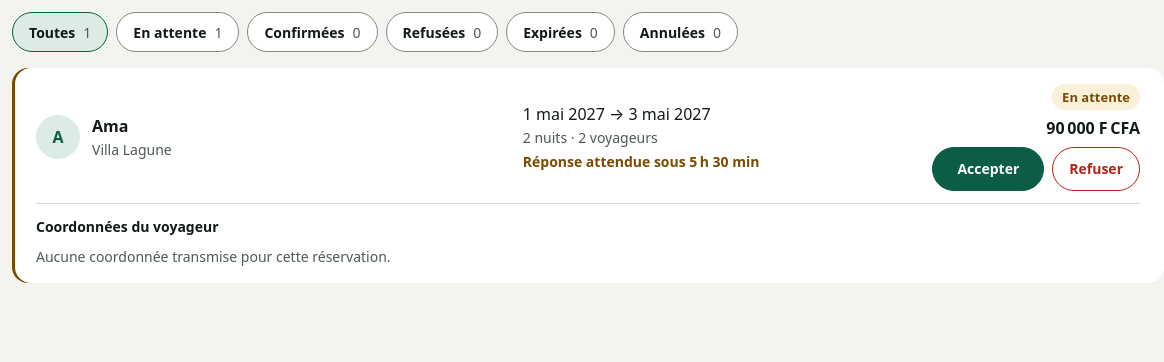
Test: HostBookings › 409 (expired meanwhile): explains it and reloads the bookings
What coordinates should you click on to do the following:
click the button "Accepter"
I would click on:
 (988, 169)
Its box is x1=932 y1=147 x2=1044 y2=191.
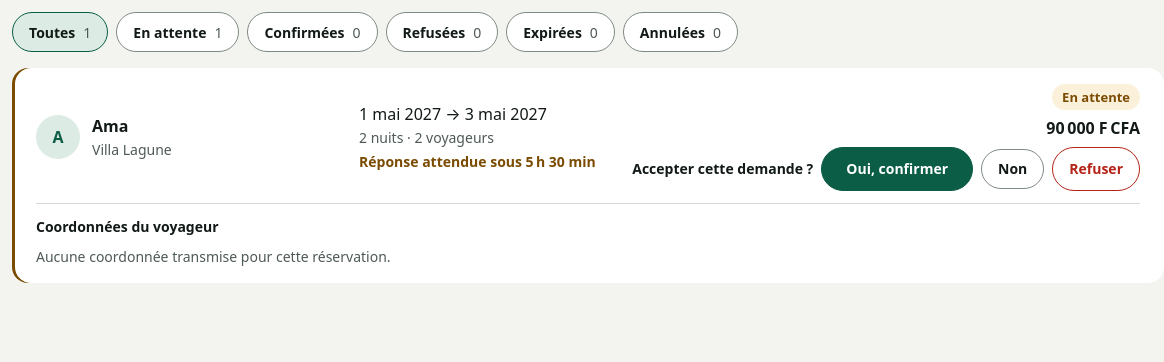
What coordinates should you click on to do the following:
click the button "Oui, confirmer"
I would click on:
 (897, 169)
Its box is x1=821 y1=147 x2=973 y2=191.
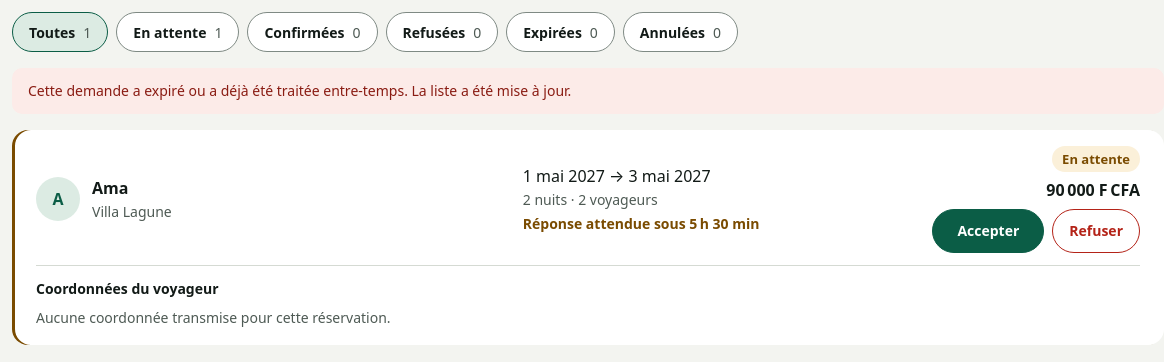
Result: the message shows "Cette demande a expiré ou a déjà été traitée" at x1=28 y1=81 x2=571 y2=100
